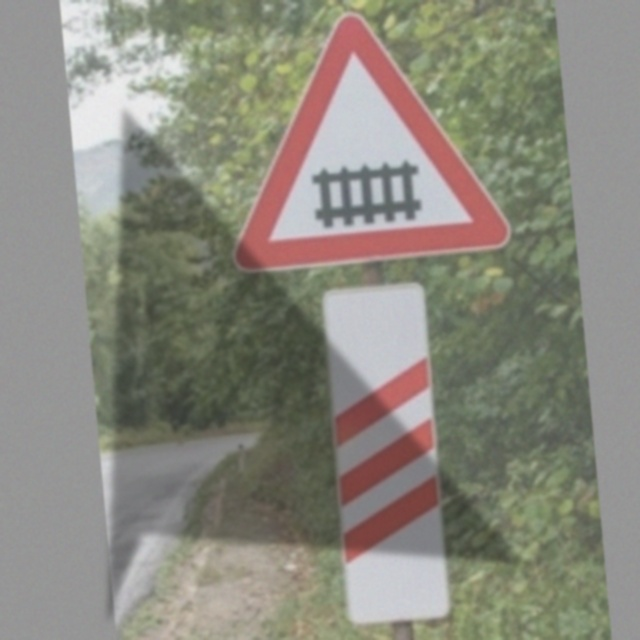Guarded_Level_Crossing: (225, 2, 497, 271)
